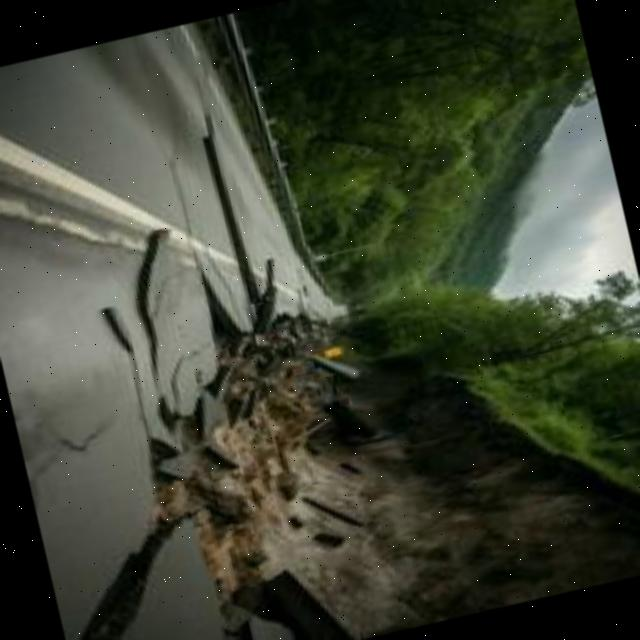road collapse: (0, 61, 527, 640)
